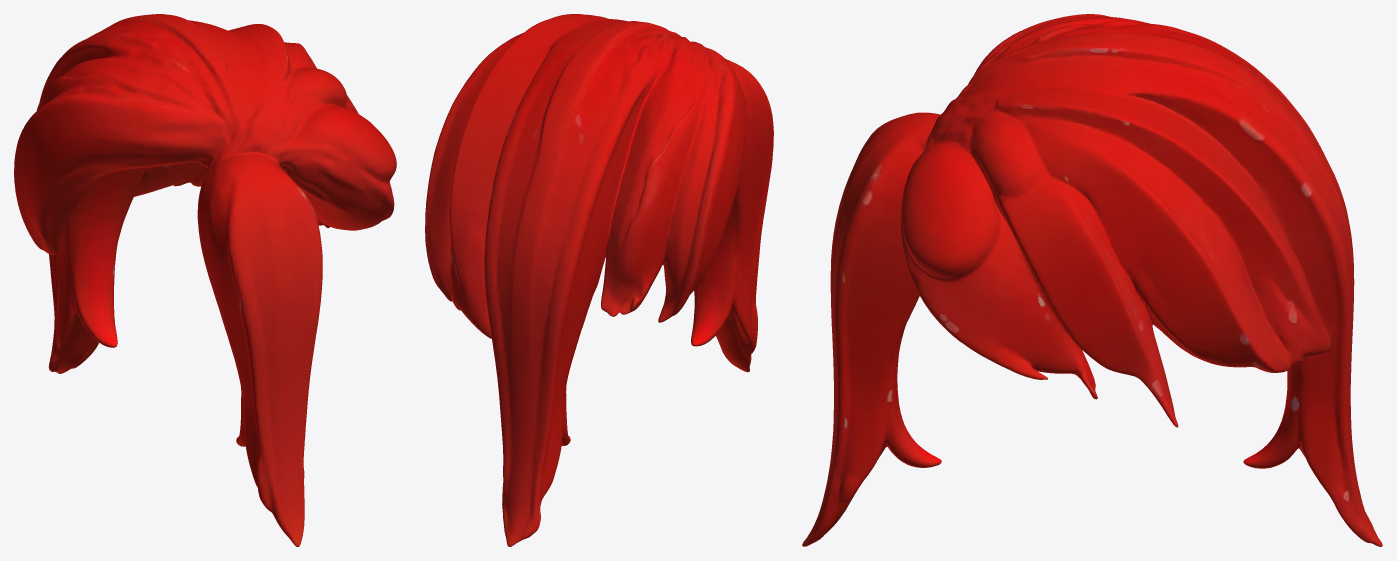
File: E003HikaruHair.glb
3 renders of one model, left to right at view 1: azimuth 30°, elevation 25°; view 2: azimuth 150°, elevation 25°; view 3: azimuth 270°, elevation 25°, orthographic. The views are drawn at different scales.
Visible parts, largest first — view 1: tripo_node_31effc2e-0fd7-466b-a7d1-ad20059cd9f8; view 2: tripo_node_31effc2e-0fd7-466b-a7d1-ad20059cd9f8; view 3: tripo_node_31effc2e-0fd7-466b-a7d1-ad20059cd9f8.
Boxes of the visible parts, x1=… form: tripo_node_31effc2e-0fd7-466b-a7d1-ad20059cd9f8: x1=14, y1=14, x2=396, y2=546; tripo_node_31effc2e-0fd7-466b-a7d1-ad20059cd9f8: x1=425, y1=14, x2=773, y2=546; tripo_node_31effc2e-0fd7-466b-a7d1-ad20059cd9f8: x1=802, y1=14, x2=1382, y2=546.
Size of the model in its own units: 0.6622 by 0.9318 by 0.9484.
1 material, 1 textured.
